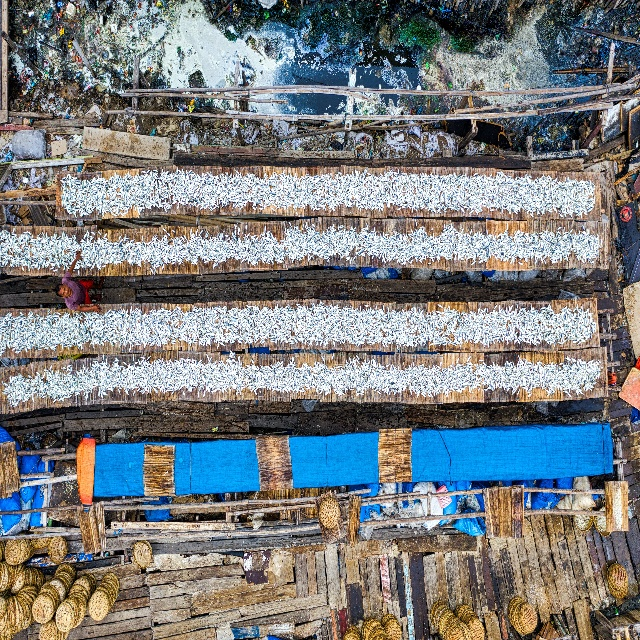Sin_guantes: (75, 248, 83, 261), (93, 303, 101, 313)
